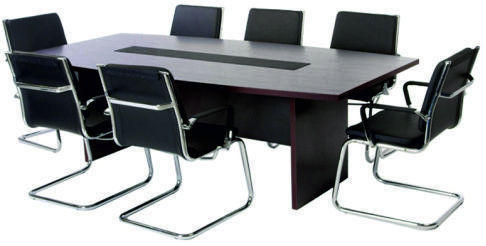conference_table: (14, 31, 419, 211)
